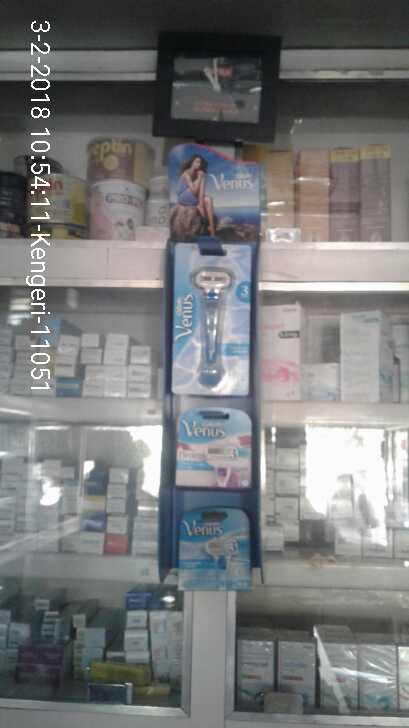venus: (166, 237, 256, 399), (172, 503, 256, 594), (170, 402, 256, 488)
